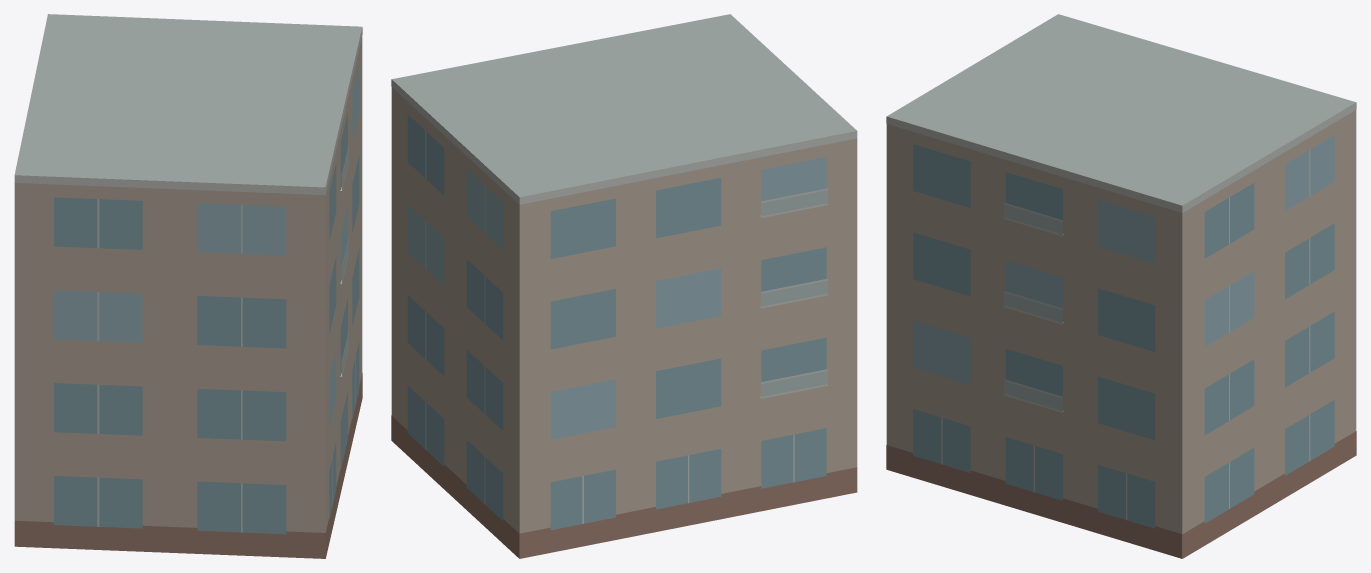
The model's file is survey-upis-32881250.glb.
The picture shows the model from 3 angles, left to right: view 1: azimuth 30°, elevation 25°; view 2: azimuth 150°, elevation 25°; view 3: azimuth 270°, elevation 25°; orthographic projection. The views are drawn at different scales.
Visible parts, largest first — view 1: survey-upis-32881250.tmp; view 2: survey-upis-32881250.tmp; view 3: survey-upis-32881250.tmp.
Part boxes in pixels (x1=…): survey-upis-32881250.tmp: x1=14, y1=14, x2=362, y2=558; survey-upis-32881250.tmp: x1=391, y1=14, x2=857, y2=558; survey-upis-32881250.tmp: x1=886, y1=14, x2=1356, y2=558.
Size of the model in its own units: 13.69 by 11.75 by 14.18.
